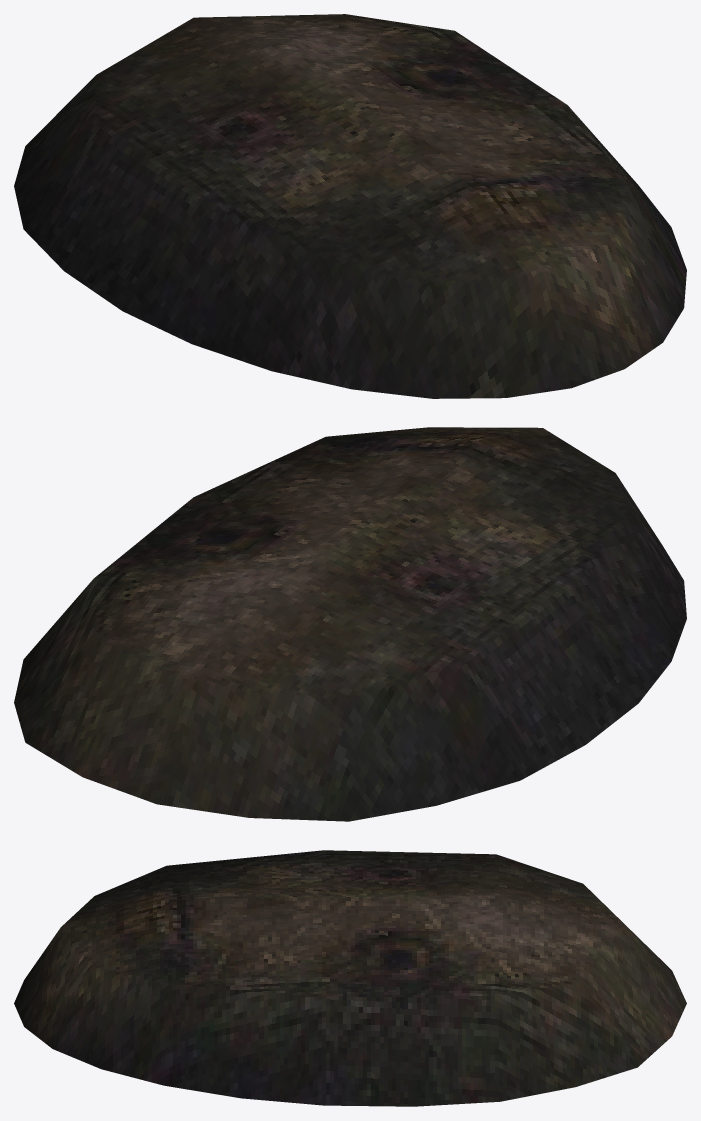
File: mask_mx_3_1.glb
The picture shows the model from 3 angles, top to bottom: view 1: azimuth 30°, elevation 25°; view 2: azimuth 150°, elevation 25°; view 3: azimuth 270°, elevation 25°; orthographic projection. The views are drawn at different scales.
Visible parts, largest first — view 1: mask_mx_3_1; view 2: mask_mx_3_1; view 3: mask_mx_3_1.
Part boxes in pixels (x1,y1,x2,y2): mask_mx_3_1: (14, 14, 686, 398); mask_mx_3_1: (14, 427, 686, 821); mask_mx_3_1: (14, 850, 686, 1106).
Bounding box in the file's own units: 0.2322 × 0.0554 × 0.3198.
1 material, 1 textured.
